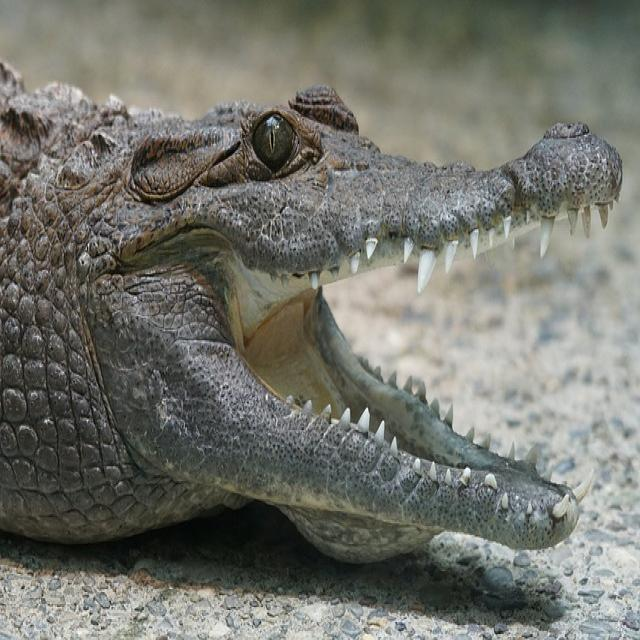Carnivorous: (0, 57, 624, 568)
